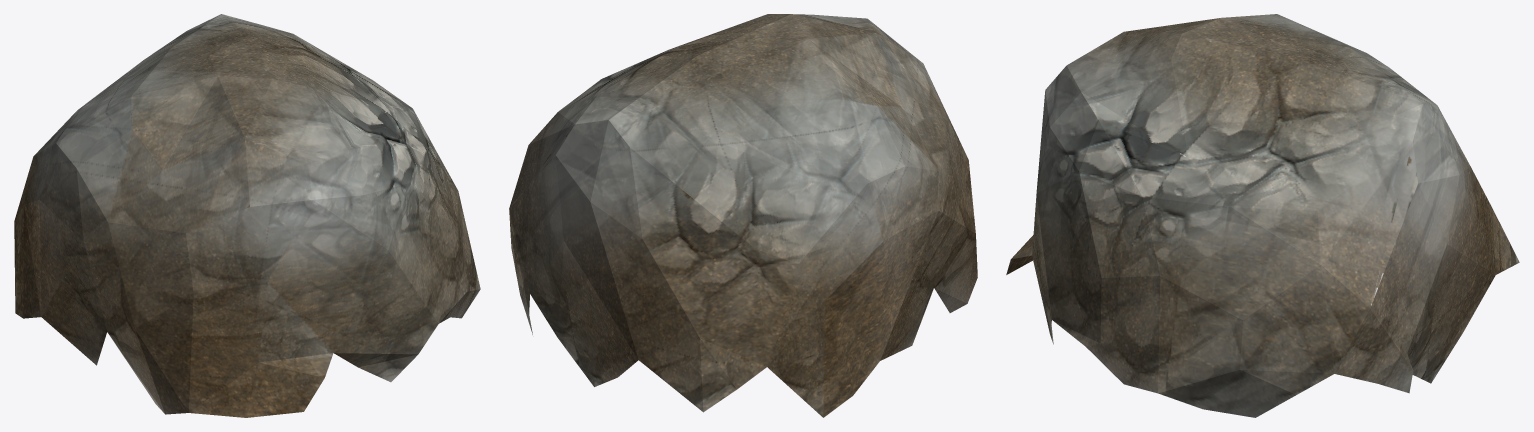
File: rockMine.glb
The picture shows the model from 3 angles, left to right: view 1: azimuth 30°, elevation 25°; view 2: azimuth 150°, elevation 25°; view 3: azimuth 270°, elevation 25°; orthographic projection. The views are drawn at different scales.
Visible parts, largest first — view 1: rock; view 2: rock; view 3: rock.
Boxes of the visible parts, x1,y1,x2,y2 form: rock: (14,14,480,417); rock: (509,14,977,417); rock: (1006,14,1519,417).
Bounding box in the file's own units: 1.83 × 1.4 × 2.09.
1 material, 1 textured.
